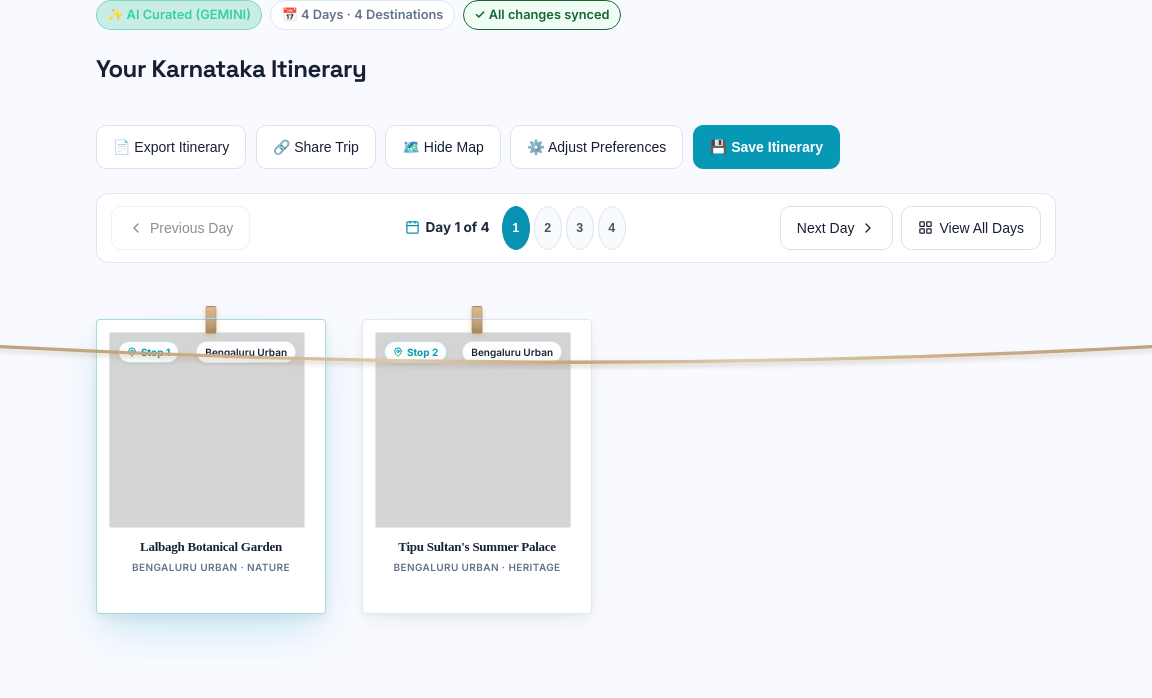
Test: Interactive Day-Wise Itinerary Redesign Experience › renders tasteful empty state on days with no sightseeing destinations
Jump to Day 4 (return/rest day with no attraction stops)
Click the button with test id "quick-day-jump-4" at (612, 228), box [598,206,626,250]
(page scrolled)
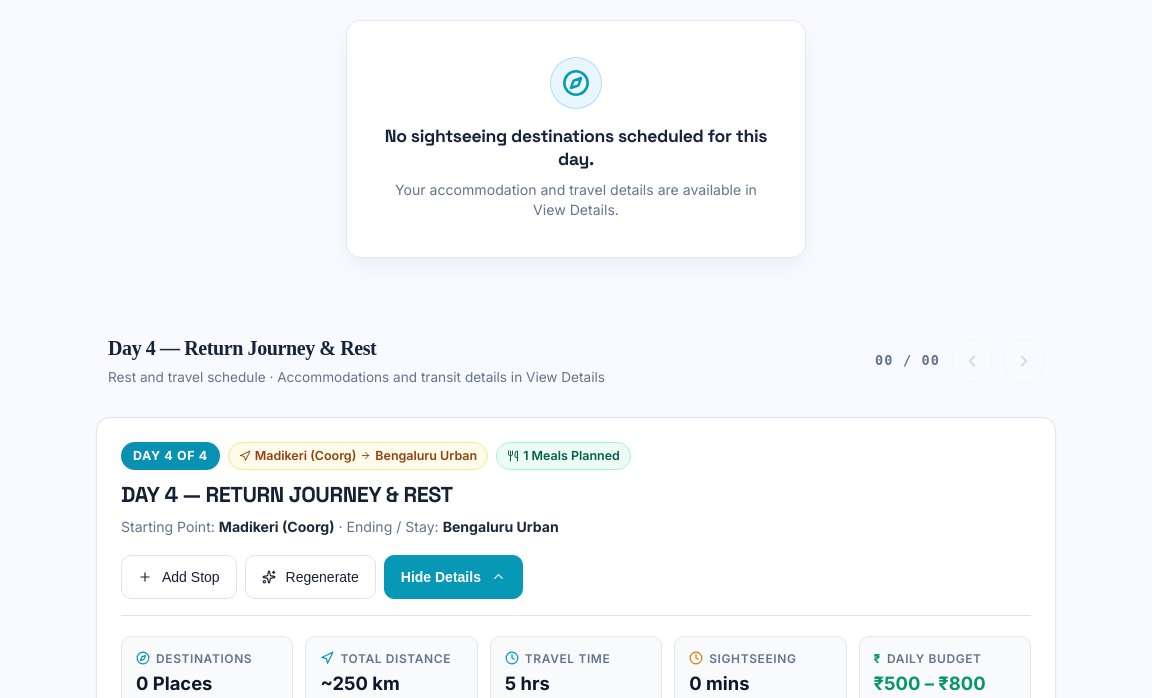
Now the element with test id "gallery-empty-state" is shown, box [346,20,806,258]
Now the heading "No sightseeing destinations scheduled for this day." is shown, box [379,124,773,172]
Now the text "Your accommodation and travel details are available in View Details." is shown, box [379,180,773,221]
